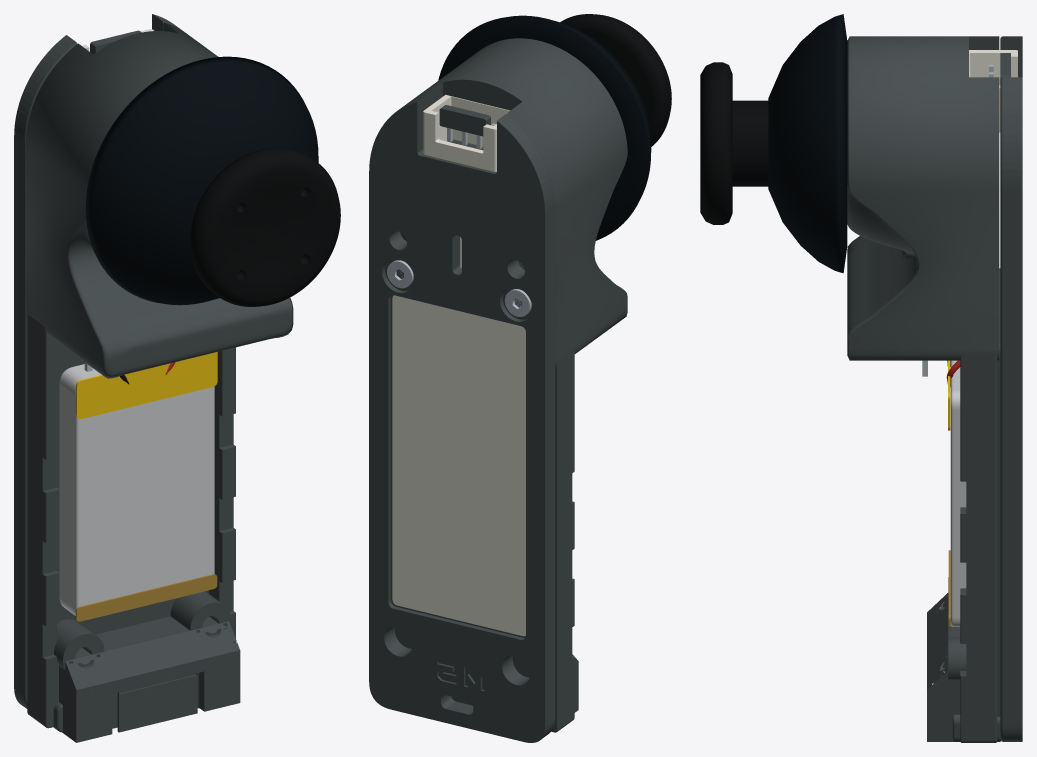
File: hat-mini-joyc.glb
The picture shows the model from 3 angles, left to right: view 1: azimuth 30°, elevation 25°; view 2: azimuth 150°, elevation 25°; view 3: azimuth 270°, elevation 25°; orthographic projection. The views are drawn at different scales.
Parts seen in each view (by area): view 1: joystick_continuous_moulding, joystick_skirt, battery_pouch_200mAh, tray_floor_with_positive_locating_step, joystick_thumb_cap, tray_side_-11.1, chassis_back, tray_side_11.1, battery_tape_top, battery_tape_bottom, chassis_back_rim, mount_boss_8 (+1 smaller); view 2: chassis_back_rim, rear_label, joystick_continuous_moulding, chassis_back, joystick_skirt, tray_side_-11.1, joystick_thumb_cap, Grove_HY2_socket, Grove_latch, tray_floor_with_positive_locating_step, rear_screw_-8, rear_screw_8; view 3: joystick_continuous_moulding, joystick_skirt, tray_side_11.1, chassis_back, tray_floor_with_positive_locating_step, joystick_thumb_cap, chassis_back_rim, joystick_stem, battery_pouch_200mAh, Grove_HY2_socket, mount_boss_8.
Part boxes in pixels (bbox=[...]): joystick_continuous_moulding: bbox=[25, 22, 293, 378]; joystick_skirt: bbox=[85, 56, 318, 305]; battery_pouch_200mAh: bbox=[59, 364, 214, 619]; tray_floor_with_positive_locating_step: bbox=[57, 344, 240, 742]; joystick_thumb_cap: bbox=[189, 148, 340, 306]; tray_side_-11.1: bbox=[27, 314, 59, 728]; chassis_back: bbox=[16, 15, 180, 708]; tray_side_11.1: bbox=[208, 347, 235, 643]; battery_tape_top: bbox=[76, 352, 217, 418]; battery_tape_bottom: bbox=[75, 574, 217, 621]; chassis_back_rim: bbox=[14, 14, 172, 705]; mount_boss_8: bbox=[170, 591, 231, 630]; chassis_back_rim: bbox=[369, 99, 547, 742]; rear_label: bbox=[392, 295, 525, 636]; joystick_continuous_moulding: bbox=[400, 38, 627, 368]; chassis_back: bbox=[383, 94, 555, 737]; joystick_skirt: bbox=[438, 15, 651, 240]; tray_side_-11.1: bbox=[551, 349, 574, 732]; joystick_thumb_cap: bbox=[560, 14, 671, 146]; Grove_HY2_socket: bbox=[423, 94, 509, 171]; Grove_latch: bbox=[439, 105, 490, 136]; tray_floor_with_positive_locating_step: bbox=[395, 626, 578, 712]; rear_screw_-8: bbox=[504, 289, 531, 316]; rear_screw_8: bbox=[387, 260, 413, 288]; joystick_continuous_moulding: bbox=[847, 36, 999, 360]; joystick_skirt: bbox=[768, 14, 847, 273]; tray_side_11.1: bbox=[960, 352, 996, 742]; chassis_back: bbox=[1000, 36, 1019, 741]; tray_floor_with_positive_locating_step: bbox=[927, 268, 1000, 741]; joystick_thumb_cap: bbox=[700, 62, 732, 224]; chassis_back_rim: bbox=[1017, 36, 1022, 741]; joystick_stem: bbox=[732, 100, 768, 186]; battery_pouch_200mAh: bbox=[950, 360, 966, 626]; Grove_HY2_socket: bbox=[969, 50, 1017, 132]; mount_boss_8: bbox=[948, 637, 966, 679].
Size of the model in its own units: 0.029 by 0.0836 by 0.036.
